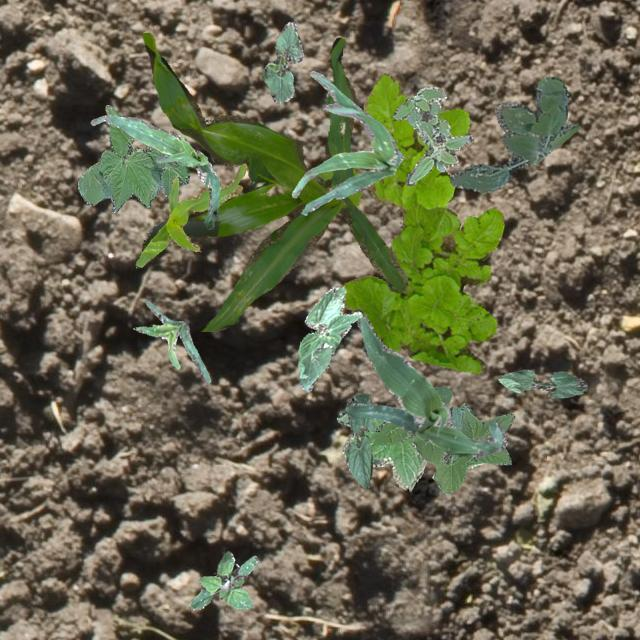crop: (141, 32, 407, 330), (344, 316, 506, 456), (290, 70, 402, 214), (90, 112, 220, 228), (76, 104, 188, 212), (135, 162, 245, 266), (336, 411, 482, 489), (296, 286, 361, 392), (134, 300, 210, 382), (260, 20, 302, 101), (344, 392, 374, 487), (498, 368, 586, 398)
weed: (316, 72, 504, 372), (368, 386, 514, 494), (448, 76, 578, 192), (392, 86, 472, 186), (190, 550, 258, 608)
